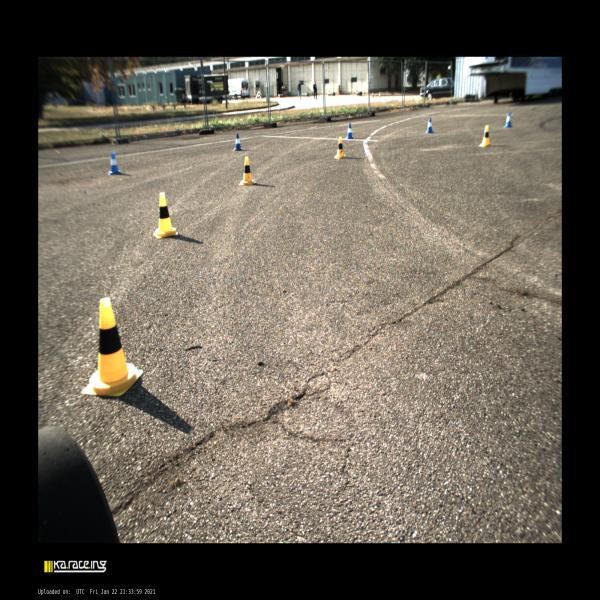blue_cone: (108, 152, 121, 176), (234, 133, 242, 151), (425, 118, 434, 133), (346, 123, 354, 139), (504, 113, 512, 127)
yellow_cone: (81, 297, 143, 396), (153, 193, 178, 238), (240, 157, 255, 185), (334, 136, 346, 158), (479, 125, 490, 147)
